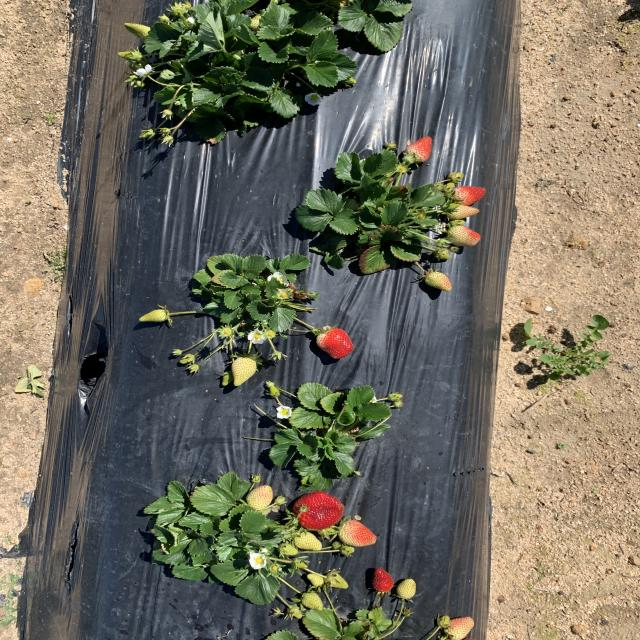unripe: (291, 492, 344, 531), (316, 328, 356, 360), (407, 135, 435, 163), (370, 567, 396, 592)
